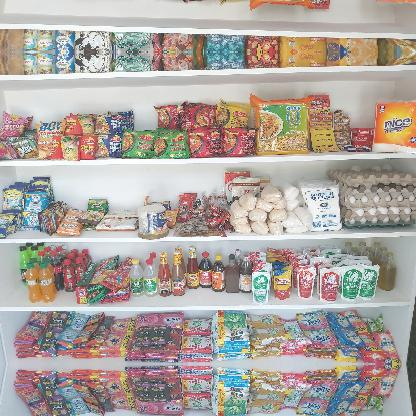Lady-s-Choice: (138, 204, 168, 240)
